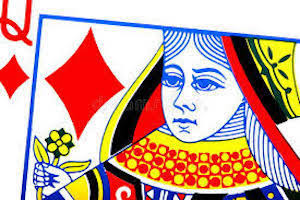QueenOfDiamonds: (2, 1, 300, 195)
